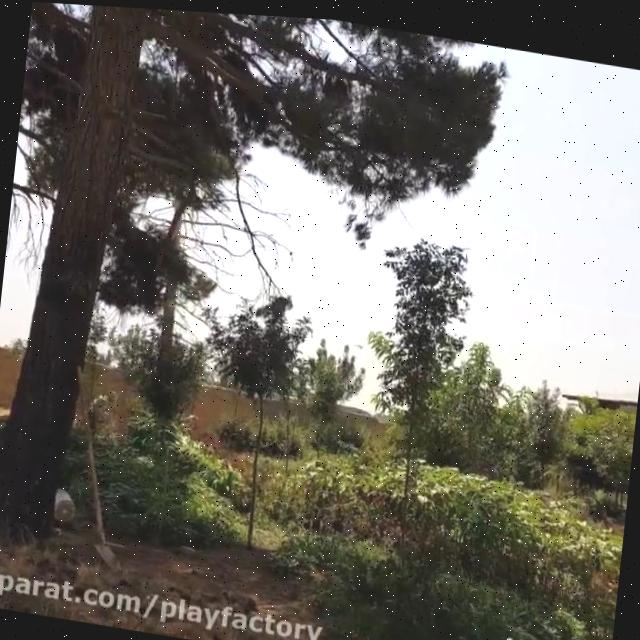drone: (352, 334, 368, 346)
